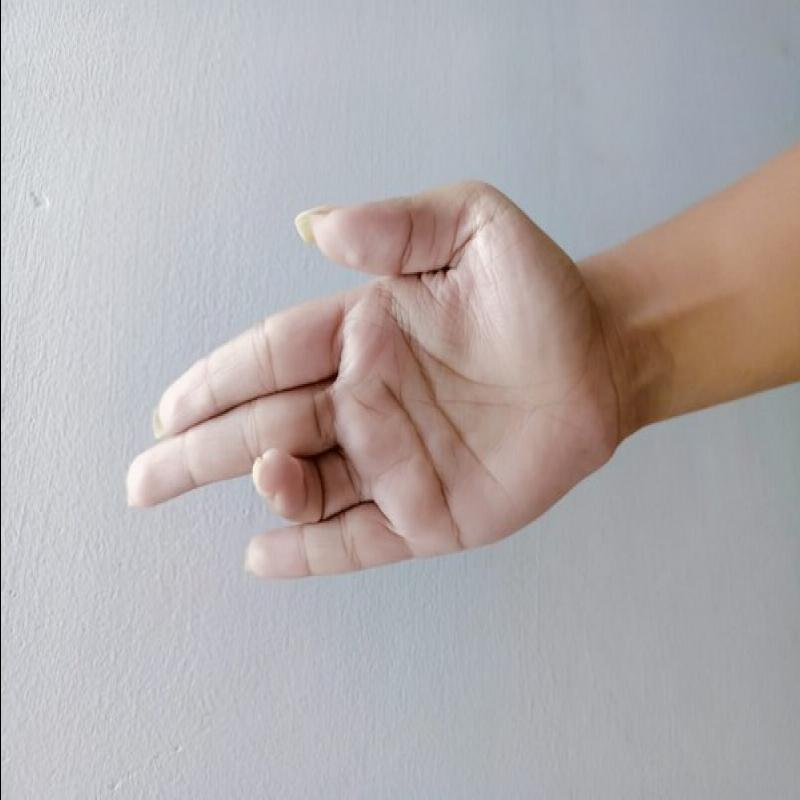Pathaaka: (113, 175, 620, 602)
